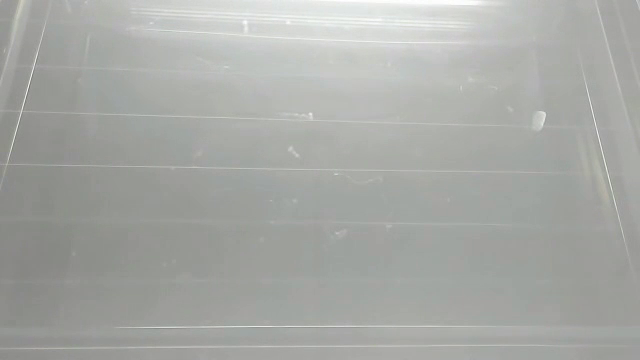alpha: (526, 108, 553, 134)
